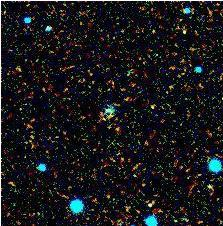star: (134, 192, 164, 222)
